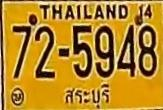2: (34, 26, 54, 76)
4: (117, 24, 135, 76)
5: (72, 25, 92, 77)
7: (12, 25, 30, 77)
8: (138, 25, 156, 76)
9: (94, 25, 113, 77)
SRI: (60, 83, 111, 110)
